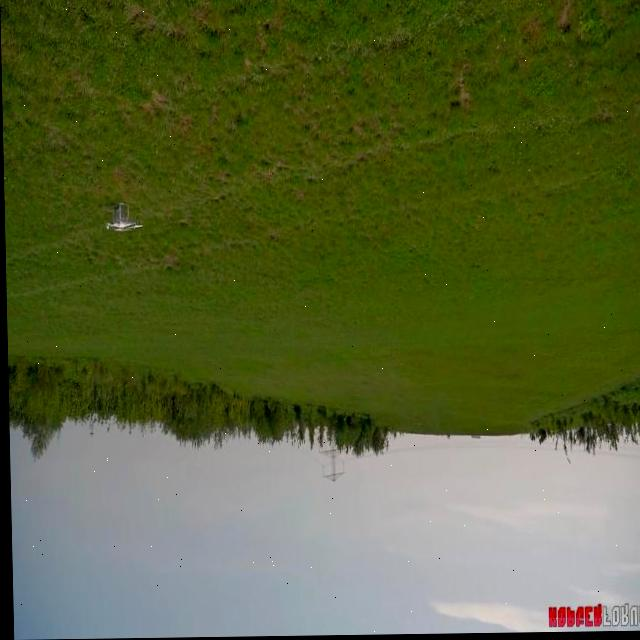drone: (103, 201, 141, 238)
